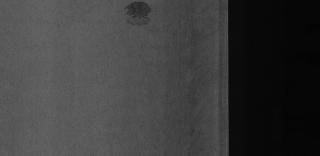oil spot: (124, 2, 152, 28)
